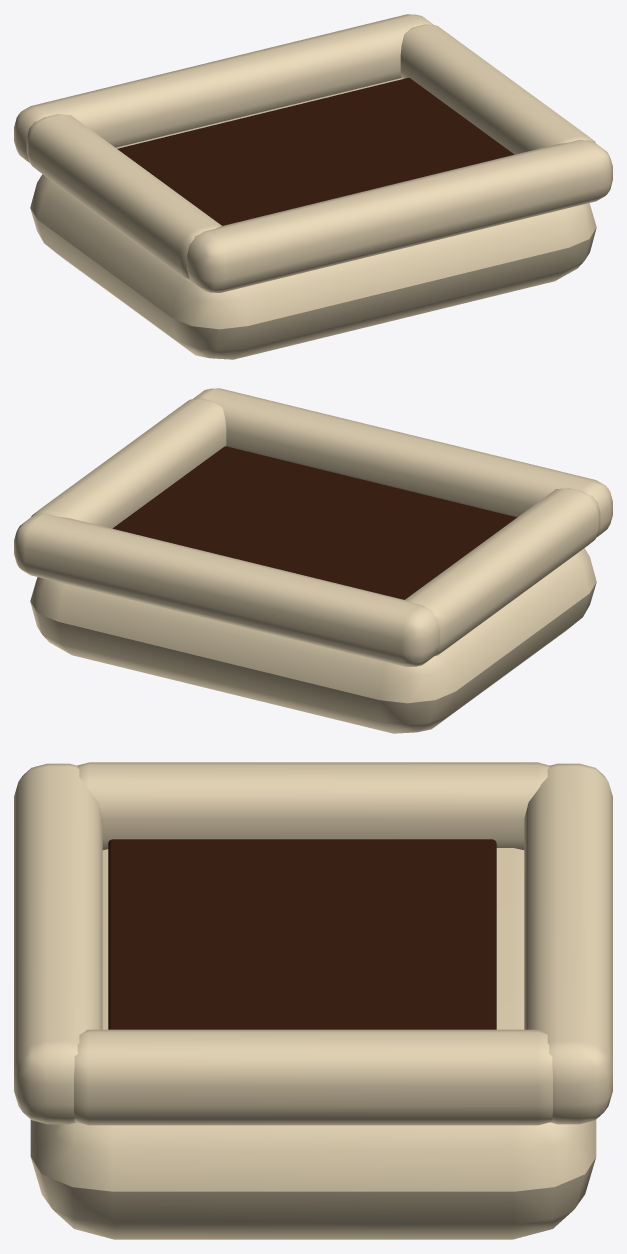
The model's file is soy-dish.glb.
The picture shows the model from 3 angles, top to bottom: view 1: azimuth 30°, elevation 25°; view 2: azimuth 150°, elevation 25°; view 3: azimuth 270°, elevation 25°; orthographic projection. The views are drawn at different scales.
Visible parts, largest first — view 1: Dish outer porcelain, Soy sauce pool, Dish thick porcelain rim, Dish thick porcelain rim.001, Dish thick porcelain rim.002, Dish thick porcelain rim.003; view 2: Dish outer porcelain, Soy sauce pool, Dish thick porcelain rim.001, Dish thick porcelain rim, Dish thick porcelain rim.002, Dish thick porcelain rim.003; view 3: Soy sauce pool, Dish outer porcelain, Dish thick porcelain rim.003, Dish thick porcelain rim.002, Dish thick porcelain rim, Dish thick porcelain rim.001.
Boxes of the visible parts, x1,y1,x2,y2 form: Dish outer porcelain: (30, 78, 596, 359); Soy sauce pool: (117, 78, 513, 225); Dish thick porcelain rim: (187, 140, 612, 292); Dish thick porcelain rim.001: (14, 14, 433, 163); Dish thick porcelain rim.002: (26, 114, 221, 282); Dish thick porcelain rim.003: (400, 24, 595, 154); Dish outer porcelain: (30, 548, 596, 733); Soy sauce pool: (113, 446, 516, 599); Dish thick porcelain rim.001: (14, 514, 439, 666); Dish thick porcelain rim: (193, 388, 612, 537); Dish thick porcelain rim.002: (405, 488, 600, 656); Dish thick porcelain rim.003: (31, 398, 226, 528); Soy sauce pool: (108, 839, 496, 1029); Dish outer porcelain: (30, 848, 596, 1239); Dish thick porcelain rim.003: (74, 1029, 552, 1125); Dish thick porcelain rim.002: (77, 762, 549, 849); Dish thick porcelain rim: (14, 763, 102, 1124); Dish thick porcelain rim.001: (524, 763, 612, 1124).
Bounding box in the file's own units: 1.3 × 0.42 × 1.08.
